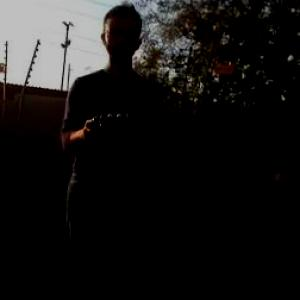follow: (55, 0, 170, 299)
